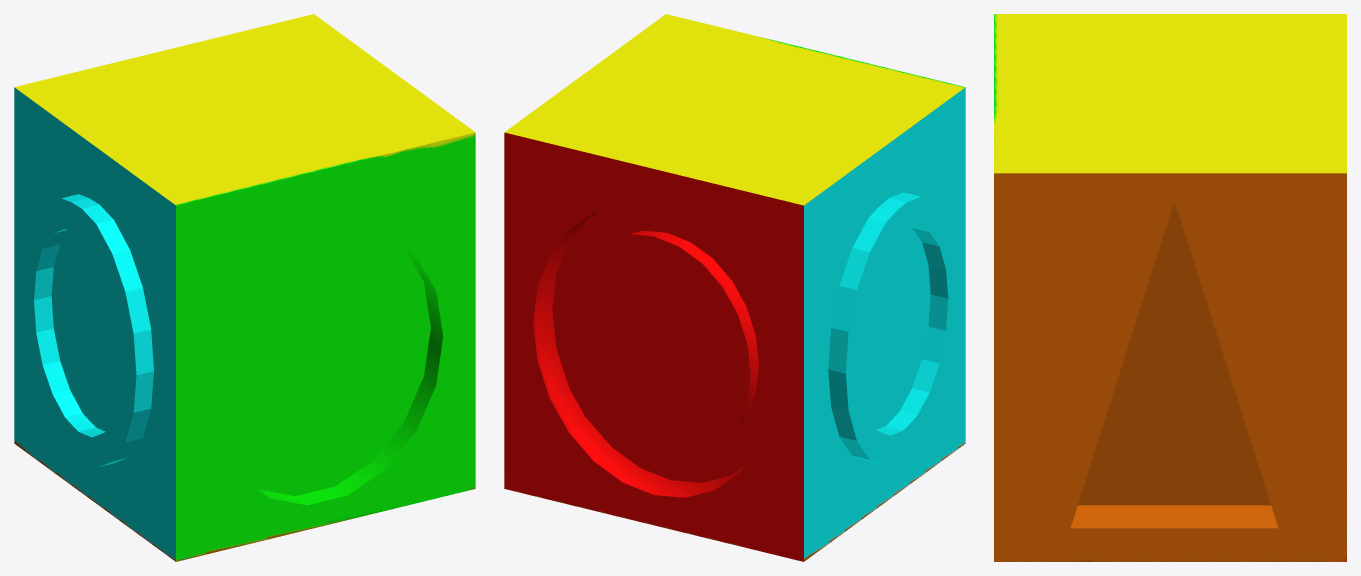
Rendered from Juguete.fbx.
3 renders of one model, left to right at view 1: azimuth 30°, elevation 25°; view 2: azimuth 150°, elevation 25°; view 3: azimuth 270°, elevation 25°, orthographic. The views are drawn at different scales.
Visible parts, largest first — view 1: juguete(Mapeado)(texturizado); view 2: juguete(Mapeado)(texturizado); view 3: juguete(Mapeado)(texturizado).
Boxes of the visible parts, x1,y1,x2,y2 form: juguete(Mapeado)(texturizado): [14, 14, 475, 561]; juguete(Mapeado)(texturizado): [504, 14, 965, 561]; juguete(Mapeado)(texturizado): [994, 14, 1346, 561].
Bounding box in the file's own units: 186 × 199 × 164.
